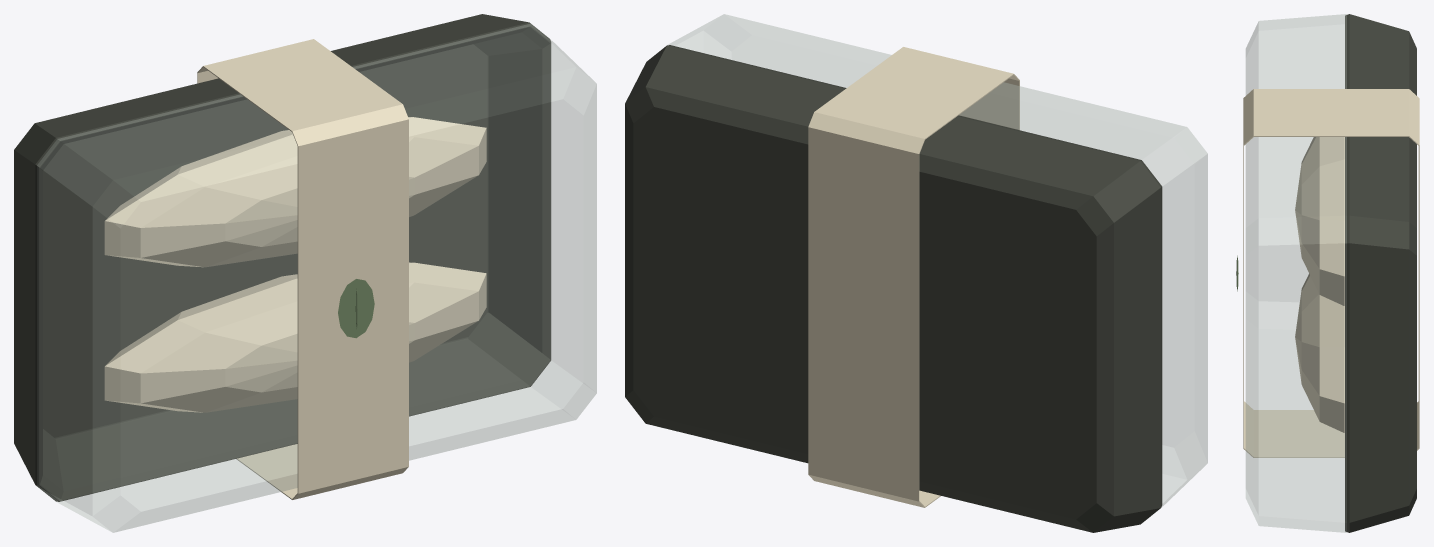
Rendered from burrito.glb.
The picture shows the model from 3 angles, left to right: view 1: azimuth 30°, elevation 25°; view 2: azimuth 150°, elevation 25°; view 3: azimuth 270°, elevation 25°; orthographic projection. The views are drawn at different scales.
Parts seen in each view (by area): view 1: burrito; view 2: burrito; view 3: burrito.
Part boxes in pixels (bbox=[...]): burrito: bbox=[14, 14, 596, 532]; burrito: bbox=[625, 14, 1207, 532]; burrito: bbox=[1236, 14, 1419, 532].
Size of the model in its own units: 0.2 by 0.137 by 0.0706.
